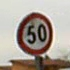limite 50: (16, 10, 53, 55)
